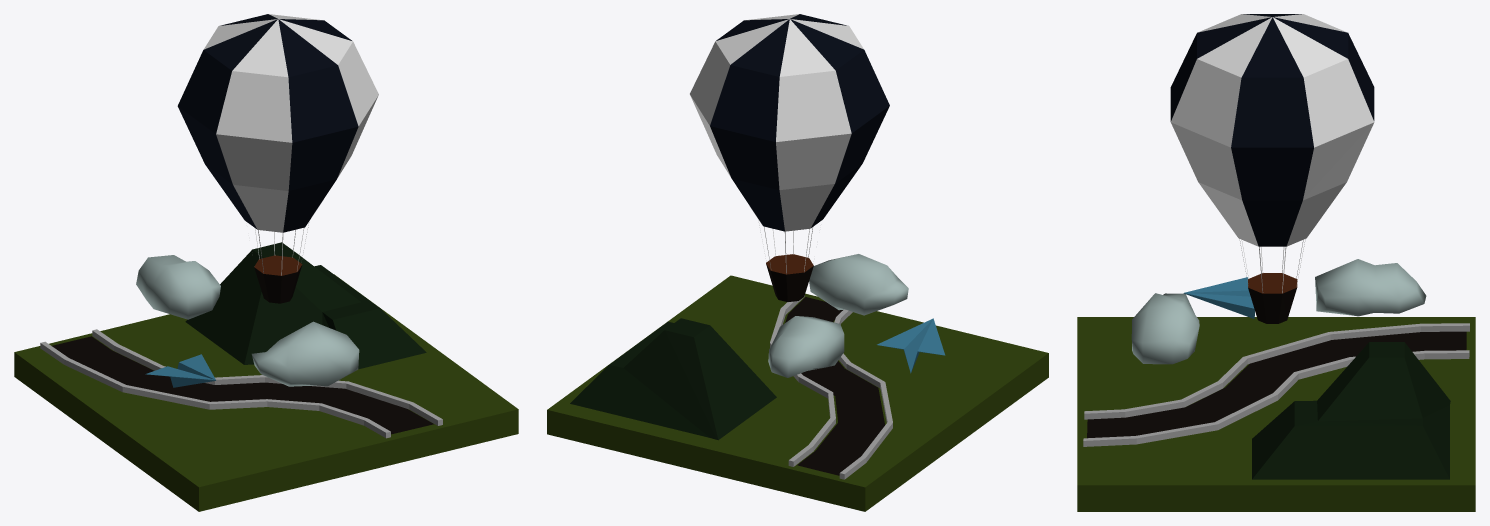
The model's file is W_O_Playground_BeachSymbolic_001_L3.fbx.
3 renders of one model, left to right at view 1: azimuth 30°, elevation 25°; view 2: azimuth 150°, elevation 25°; view 3: azimuth 270°, elevation 25°, orthographic. The views are drawn at different scales.
Parts seen in each view (by area): view 1: W_O_Playground_BeachSymbolic_001_L3; view 2: W_O_Playground_BeachSymbolic_001_L3; view 3: W_O_Playground_BeachSymbolic_001_L3.
Boxes of the visible parts, left/top/right/bottom form: W_O_Playground_BeachSymbolic_001_L3: left=14, top=14, right=518, bottom=511; W_O_Playground_BeachSymbolic_001_L3: left=547, top=14, right=1048, bottom=511; W_O_Playground_BeachSymbolic_001_L3: left=1077, top=14, right=1475, bottom=511.
Bounding box in the file's own units: 2 × 2.3 × 2.
